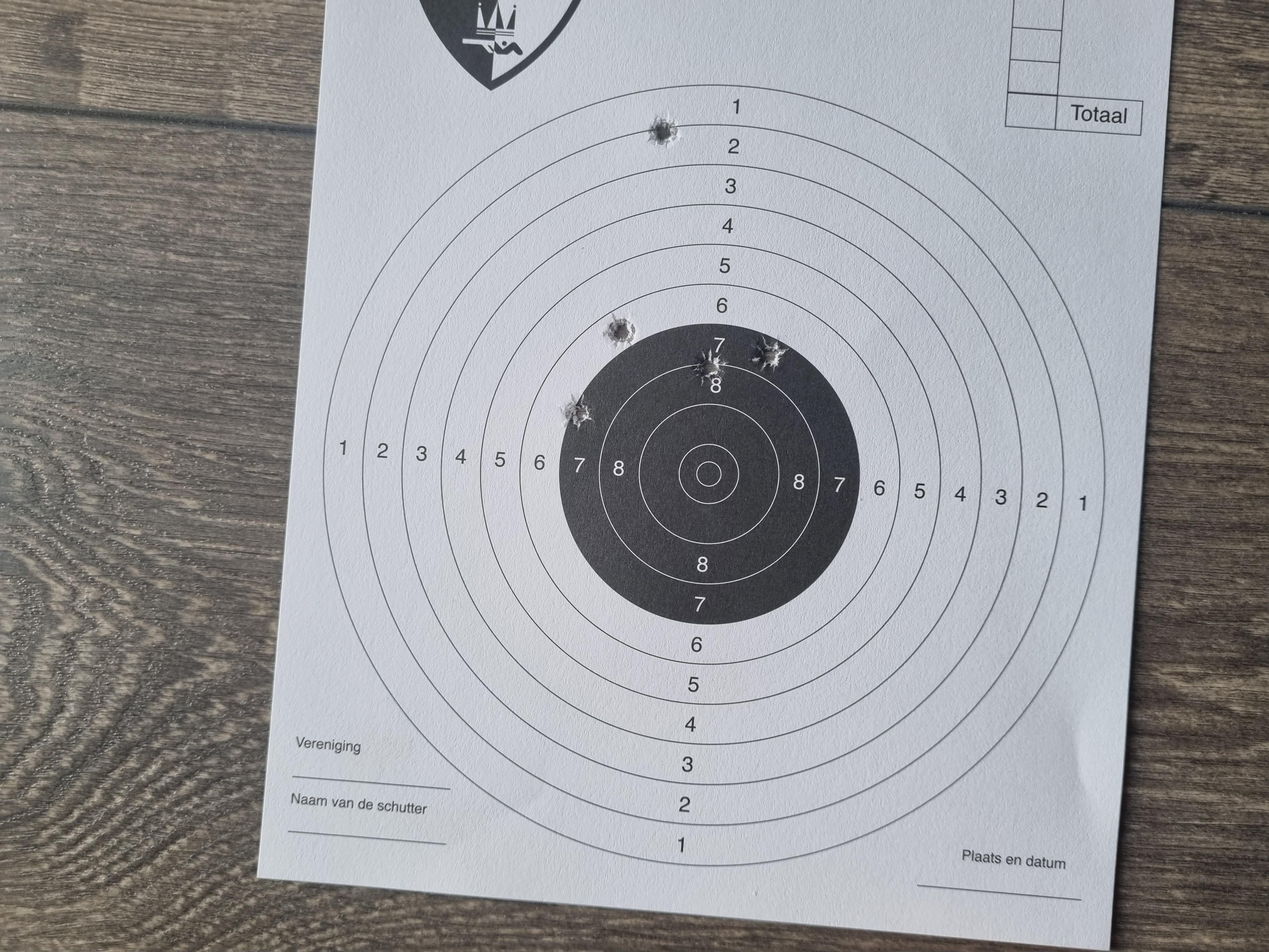hole: (1071, 484, 1121, 516), (752, 520, 805, 550), (776, 562, 819, 595), (804, 451, 851, 478), (691, 419, 740, 444)
